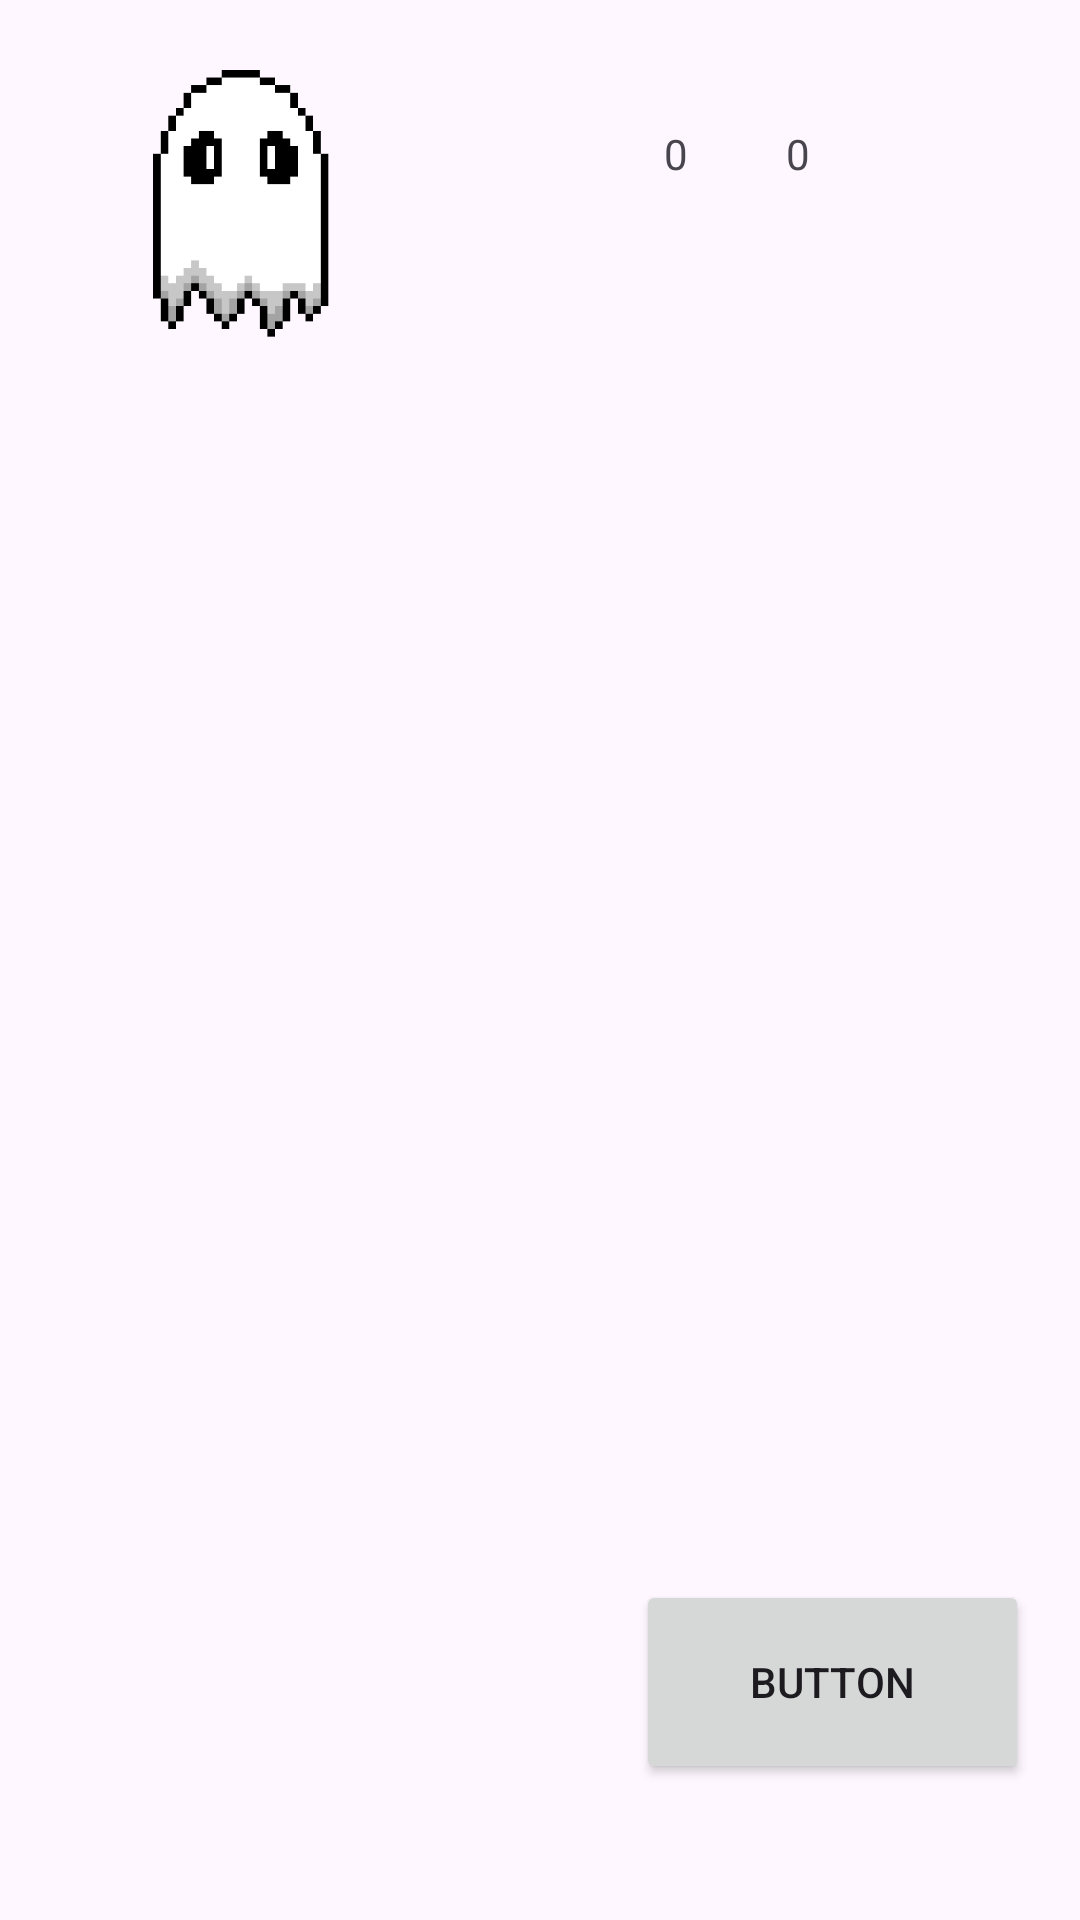

Point at icon controls on the screen. Image size 1080 x 1920, points as (x,y).
ghost: (241,203)
